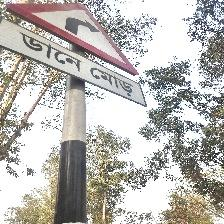Right-turn: (0, 1, 145, 108)
